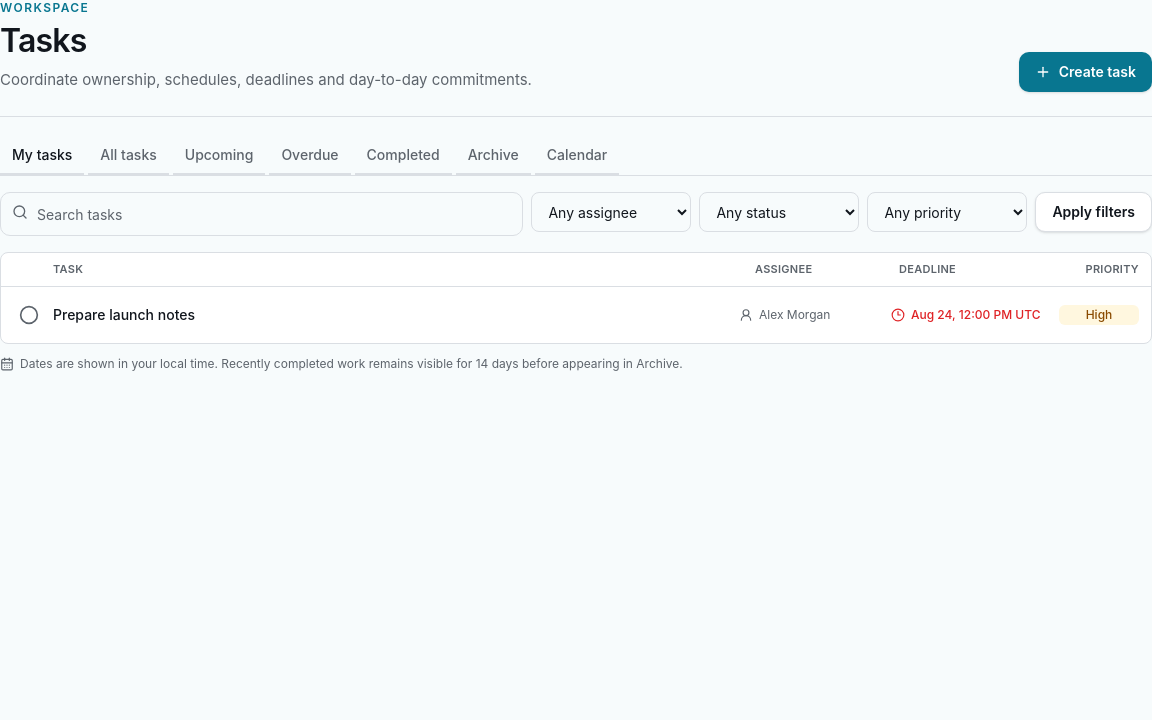
Test case: task workspace › offers an accessible creation dialog to collaborators
Click the button "Create task": (1085, 72) [1019,52,1151,92]
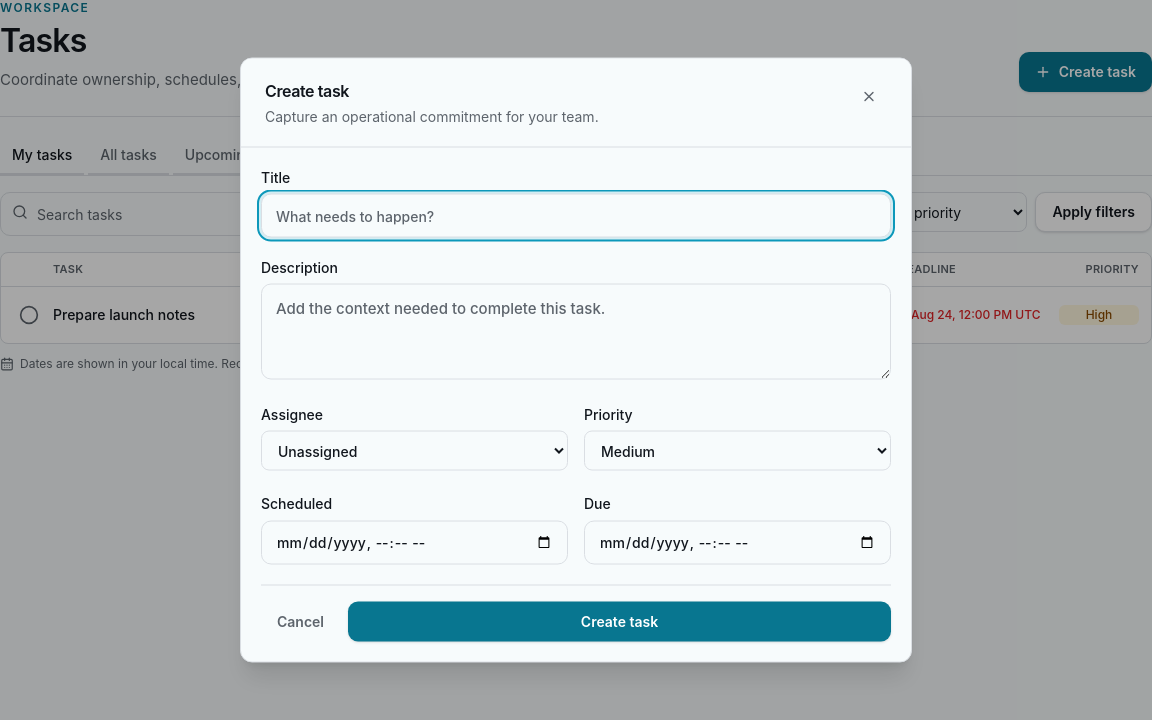
Check: the dialog "Create task" is shown, box [240,58,912,662]
Check: the dropdown labelled "Assignee" is shown, box [261,430,568,470]
